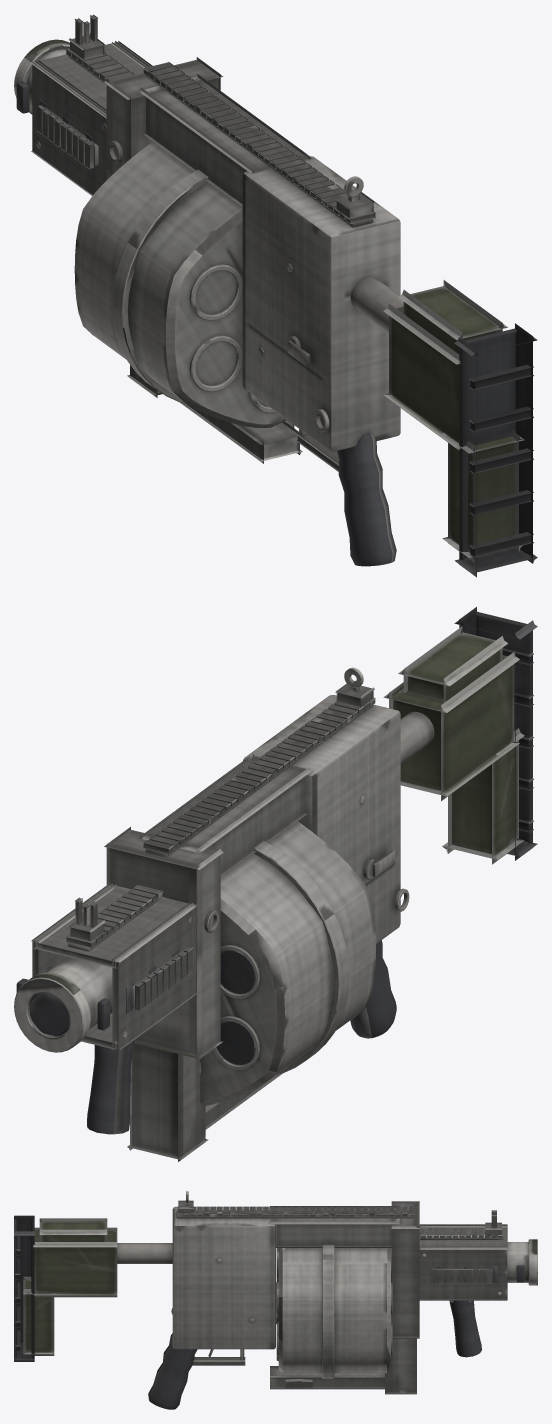
File: grenade_launcher.glb
The picture shows the model from 3 angles, top to bottom: view 1: azimuth 30°, elevation 25°; view 2: azimuth 150°, elevation 25°; view 3: azimuth 270°, elevation 25°; orthographic projection. The views are drawn at different scales.
Parts seen in each view (by area): view 1: frame, cylinder, stock, barrel, grip; view 2: frame, barrel, cylinder, stock, grip; view 3: frame, cylinder, barrel, stock, grip.
Boxes of the visible parts, x1,y1,x2,y2 form: frame: (127,62,400,463); cylinder: (74,142,286,427); stock: (350,277,537,577); barrel: (14,14,223,195); grip: (108,140,396,566); frame: (127,667,400,1161); barrel: (14,827,223,1134); cylinder: (199,821,375,1105); stock: (383,607,537,864); grip: (204,888,409,1038); frame: (172,1191,416,1394); cylinder: (276,1245,392,1378); barrel: (391,1201,537,1357); stock: (14,1215,172,1361); grip: (148,1308,245,1409).
Bounding box in the file's own units: 0.228 × 0.3601 × 0.792.
Materials: 1 (1 with a texture image).
